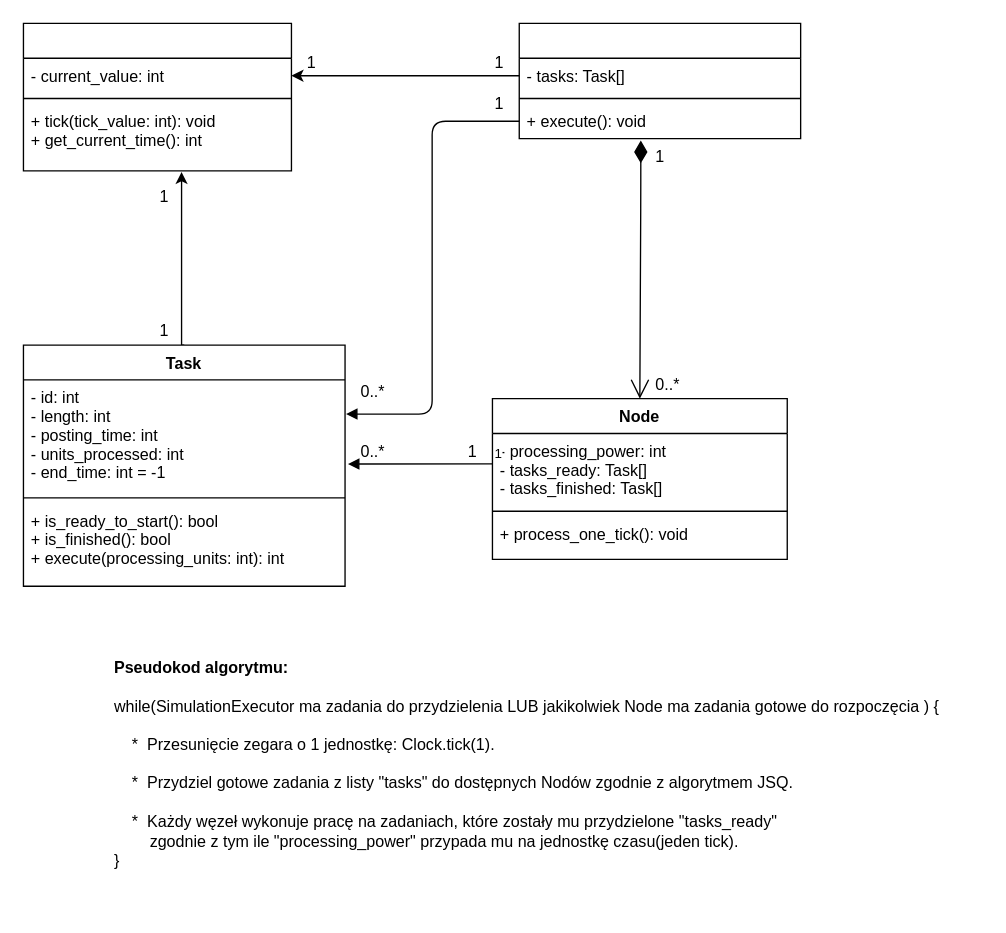
Some shapes in this 1006 by 933 pixel diagram are drawn without their labels. The shapes that lost their labels are listed below. From the top down, each one's box as (x1, y1, x2, y2) in pixels, then its label:
(22, 22, 291, 171): Clock [singleton]
(518, 22, 801, 139): SimulationExecutor
